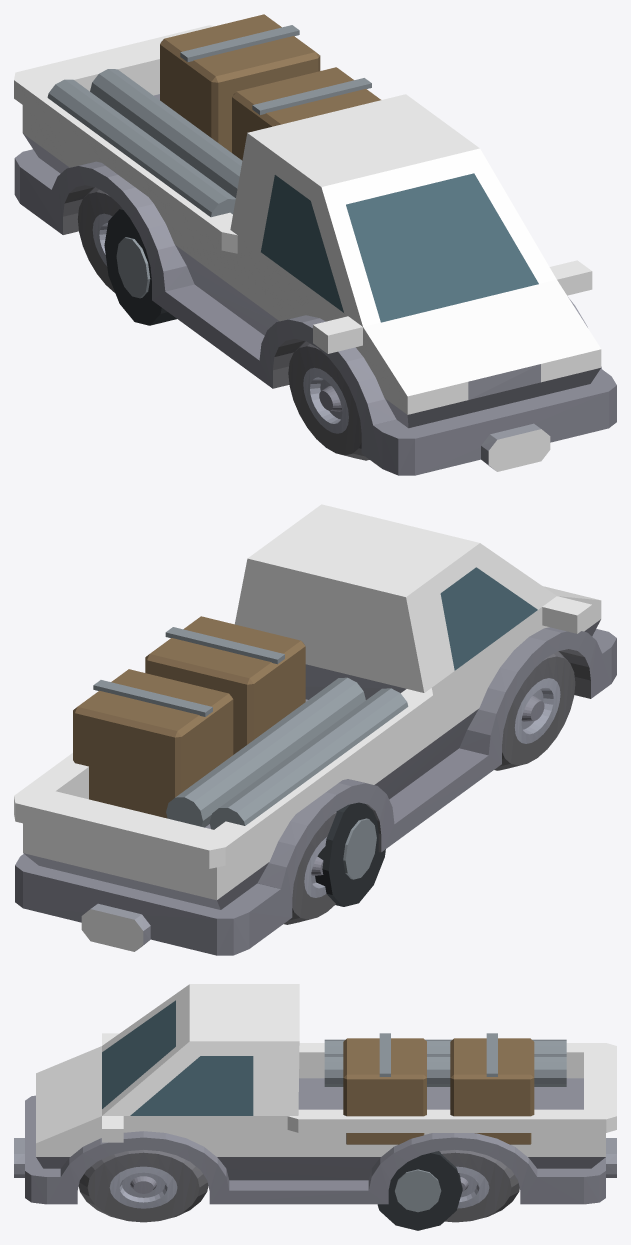
File: flatbed.glb
3 views of the same model, one above another, from view 1: azimuth 30°, elevation 25°; view 2: azimuth 150°, elevation 25°; view 3: azimuth 270°, elevation 25° (orthographic). The views are drawn at different scales.
Visible parts, largest first — view 1: trim, body, head; view 2: trim, body, tail; view 3: trim, body, head.
Boxes of the visible parts, x1,y1,x2,y2 form: trim: (14,14,616,475); body: (14,25,600,471); head: (392,349,601,414); trim: (15,567,616,955); body: (14,504,599,951); tail: (23,823,231,881); trim: (14,1000,616,1230); body: (36,984,616,1156); head: (36,1134,57,1156).
Bounding box in the file's own units: 2.43 × 2.11 × 6.48.
